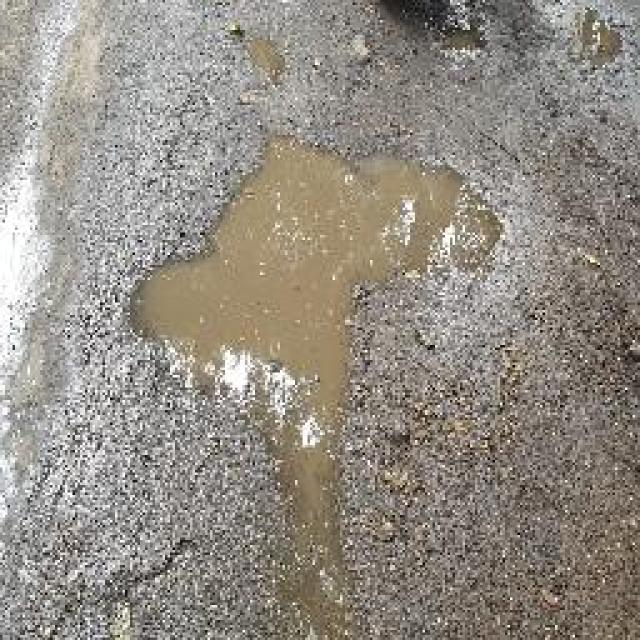puddle: (137, 136, 501, 576)
